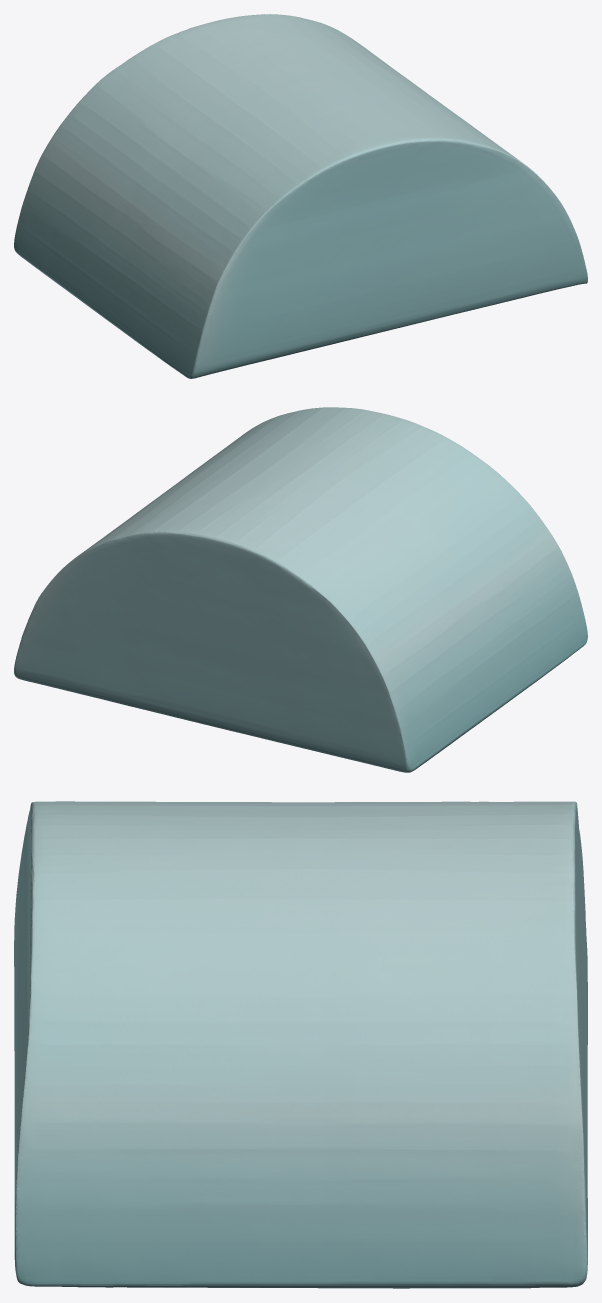
The model's file is obj3_scaled_obb.glb.
The picture shows the model from 3 angles, top to bottom: view 1: azimuth 30°, elevation 25°; view 2: azimuth 150°, elevation 25°; view 3: azimuth 270°, elevation 25°; orthographic projection. The views are drawn at different scales.
Visible parts, largest first — view 1: world; view 2: world; view 3: world.
Part boxes in pixels (bbox=[...]): world: bbox=[14, 14, 587, 378]; world: bbox=[14, 407, 587, 772]; world: bbox=[14, 801, 587, 1288].
Bounding box in the file's own units: 0.043 × 0.0194 × 0.0338.
